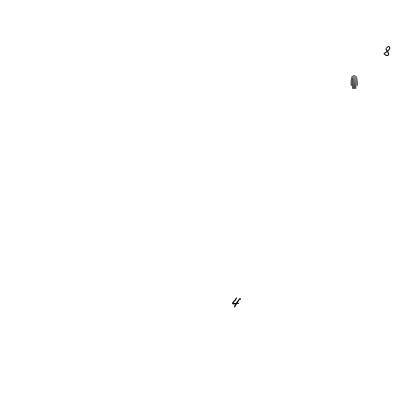4: (229, 295, 243, 309)
8: (380, 44, 394, 58)
Dress: (347, 75, 361, 89)
